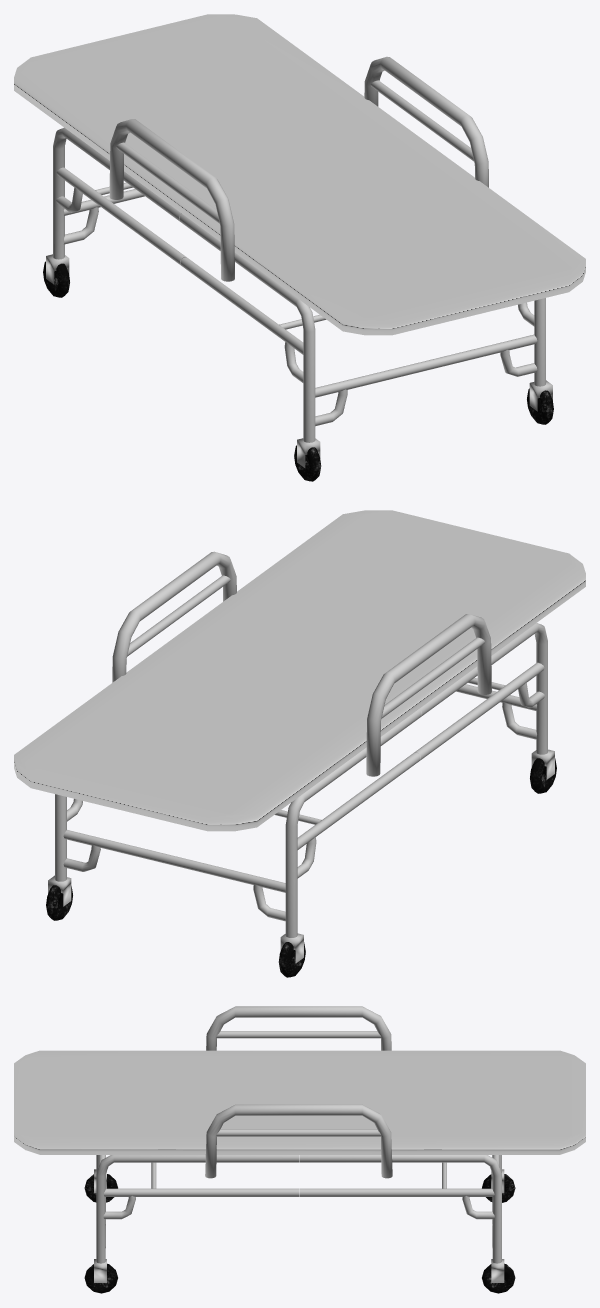
The model's file is Stretcher.fbx.
The picture shows the model from 3 angles, top to bottom: view 1: azimuth 30°, elevation 25°; view 2: azimuth 150°, elevation 25°; view 3: azimuth 270°, elevation 25°; orthographic projection. The views are drawn at different scales.
Visible parts, largest first — view 1: Bed, BedFrame, BedHandles, BedWheels; view 2: Bed, BedFrame, BedHandles, BedWheels; view 3: Bed, BedFrame, BedHandles, BedWheels.
Boxes of the visible parts, left/top/right/bottom form: Bed: left=14, top=14, right=585, bottom=335; BedFrame: left=46, top=127, right=552, bottom=467; BedHandles: left=109, top=56, right=488, bottom=281; BedWheels: left=43, top=261, right=553, bottom=481; Bed: left=14, top=510, right=585, bottom=831; BedFrame: left=48, top=623, right=554, bottom=963; BedHandles: left=112, top=551, right=491, bottom=776; BedWheels: left=46, top=758, right=556, bottom=977; Bed: left=14, top=1050, right=585, bottom=1154; BedFrame: left=94, top=1155, right=504, bottom=1282; BedHandles: left=205, top=1006, right=392, bottom=1178; BedWheels: left=84, top=1174, right=515, bottom=1293.
Bounding box in the file's own units: 299 × 261 × 703.
